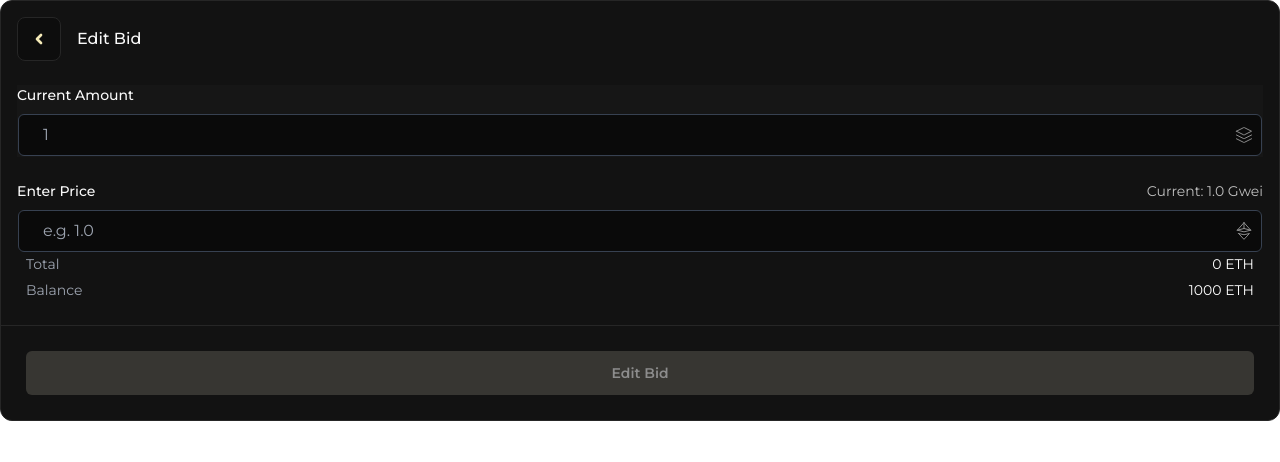
Test case: EditBid › shows error when new price is lower than current
Type "0.5" into the number field labelled "Enter Price Current: 1.0 Gwei".
click(640, 231); type("0.5")  # box [18,210,1262,252]
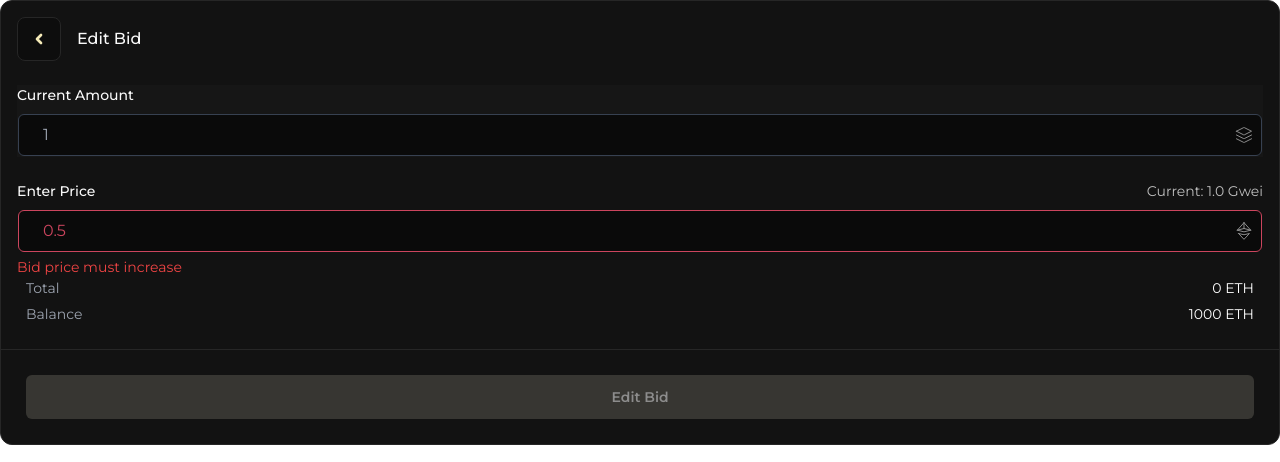
Expected: the text "Bid price must increase" is shown, [17,258,182,276]
